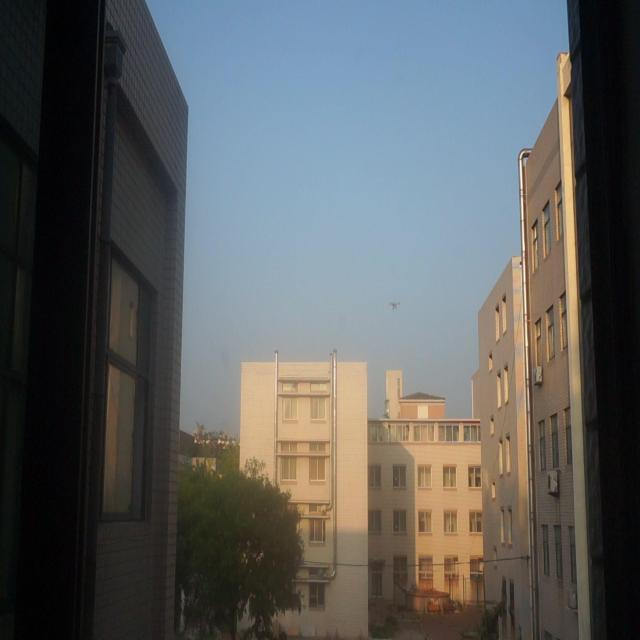drone: (385, 294, 404, 316)
